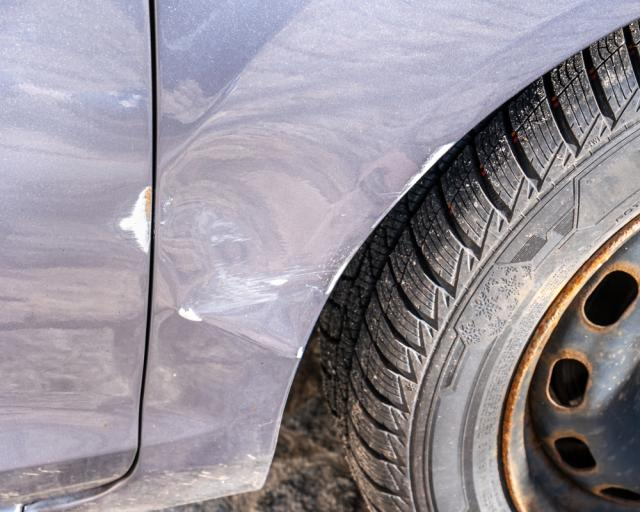dent: (156, 68, 458, 351)
scratch: (109, 186, 154, 254)
